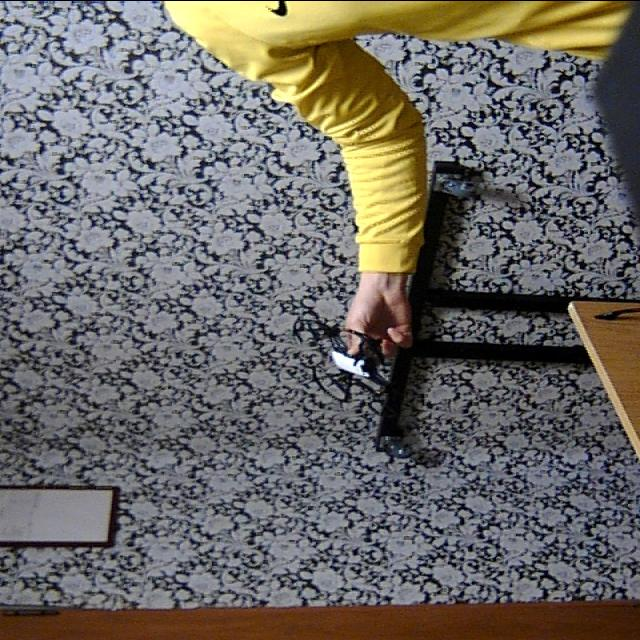drone: (293, 308, 401, 412)
